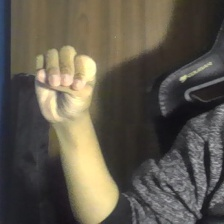M: (29, 43, 101, 128)
